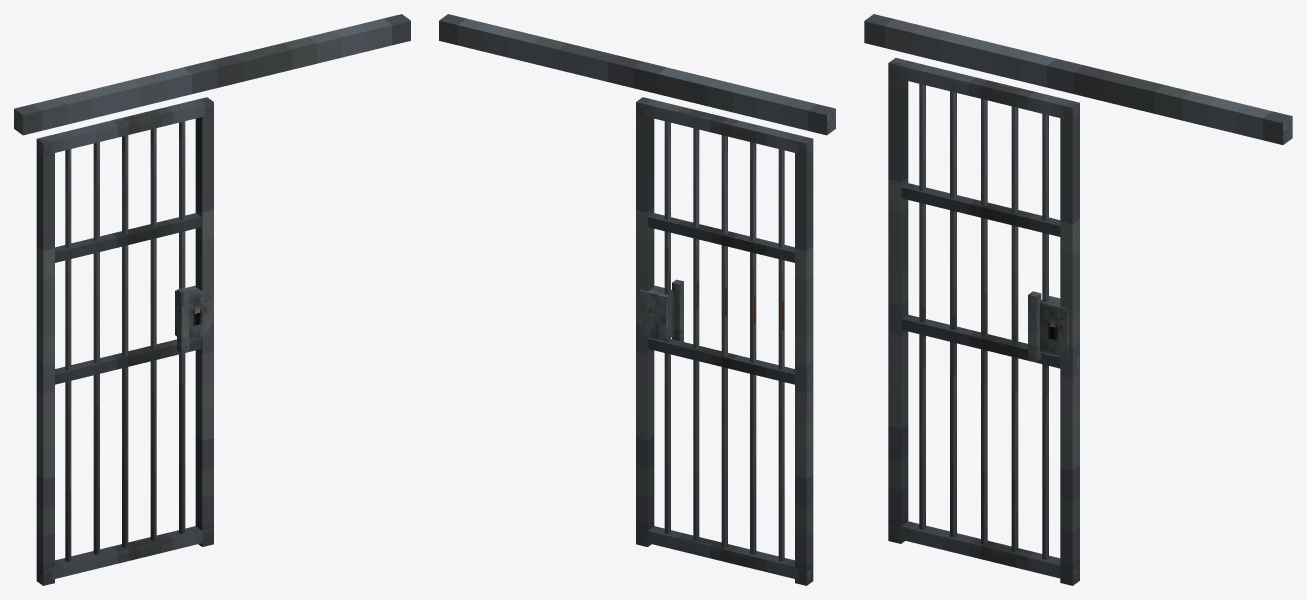
The model's file is door_cell_unlocked.glb.
3 views of the same model, side by side, from view 1: azimuth 30°, elevation 25°; view 2: azimuth 150°, elevation 25°; view 3: azimuth 330°, elevation 25° (orthographic). The views are drawn at different scales.
Parts seen in each view (by area): view 1: door_cell_unlocked_bars, door_cell_unlocked; view 2: door_cell_unlocked_bars, door_cell_unlocked; view 3: door_cell_unlocked_bars, door_cell_unlocked.
Boxes of the visible parts, x1,y1,x2,y2 form: door_cell_unlocked_bars: [36, 97, 213, 585]; door_cell_unlocked: [14, 14, 410, 135]; door_cell_unlocked_bars: [636, 97, 813, 585]; door_cell_unlocked: [439, 14, 835, 135]; door_cell_unlocked_bars: [888, 58, 1079, 585]; door_cell_unlocked: [864, 14, 1292, 144].
Size of the model in its own units: 2 by 2.35 by 0.11.
2 materials, 2 textured.
